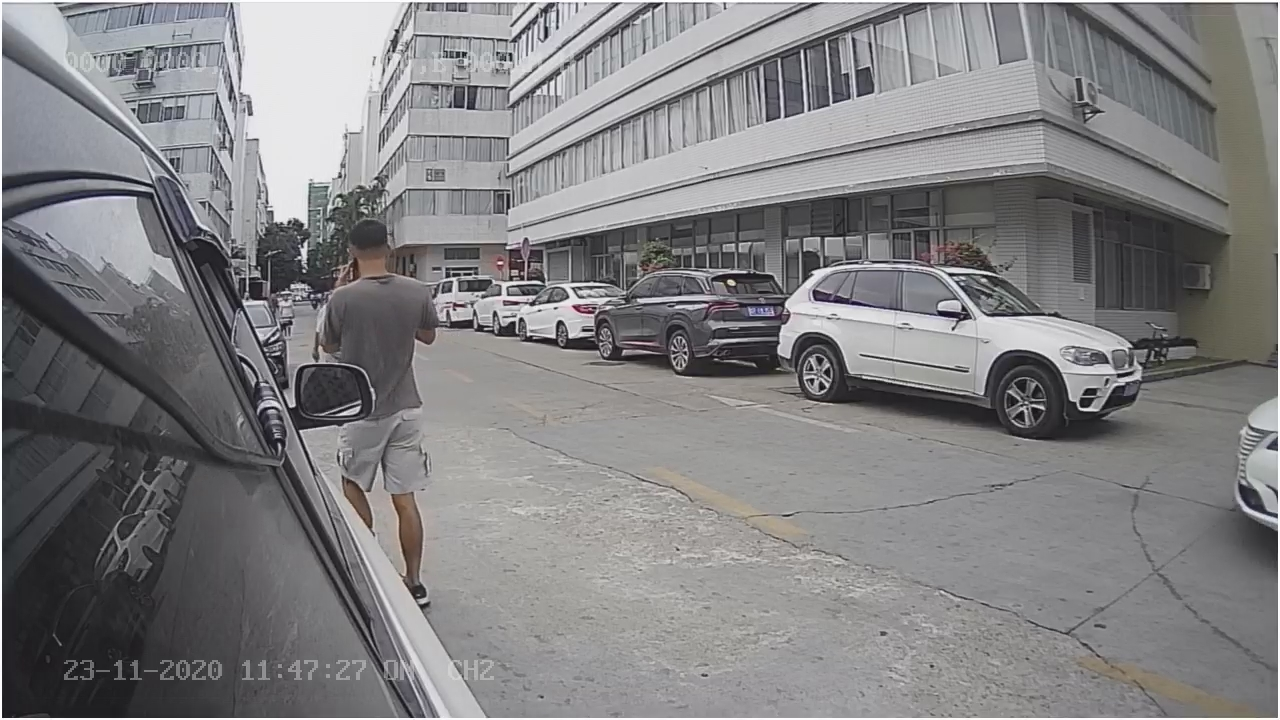person: (308, 203, 442, 361)
